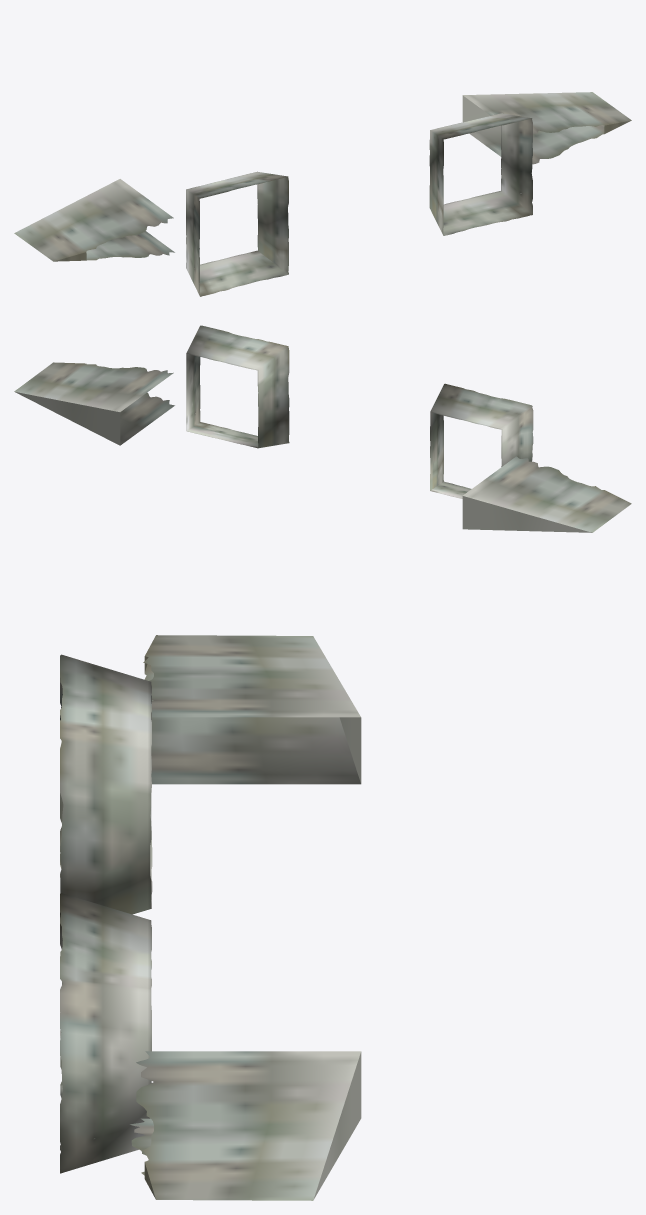
Rendered from z95_engine_s02_l3.fbx.
3 renders of one model, top to bottom at view 1: azimuth 30°, elevation 25°; view 2: azimuth 150°, elevation 25°; view 3: azimuth 270°, elevation 25°, orthographic. The views are drawn at different scales.
Visible parts, largest first — view 1: mesh_node; view 2: mesh_node; view 3: mesh_node.
Part boxes in pixels (x1,y1,x2,y2): mesh_node: (14,92,631,296); mesh_node: (14,325,631,532); mesh_node: (60,635,361,1200).
Bounding box in the file's own units: 13.52 × 2.93 × 5.33.
1 material, 1 textured.
